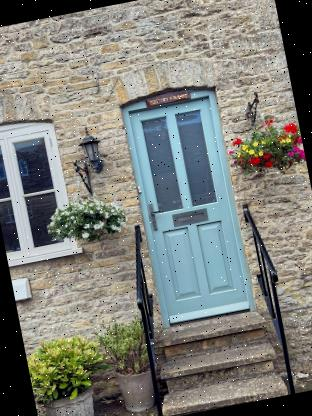door: (110, 71, 270, 334)
stair: (147, 301, 286, 416)
